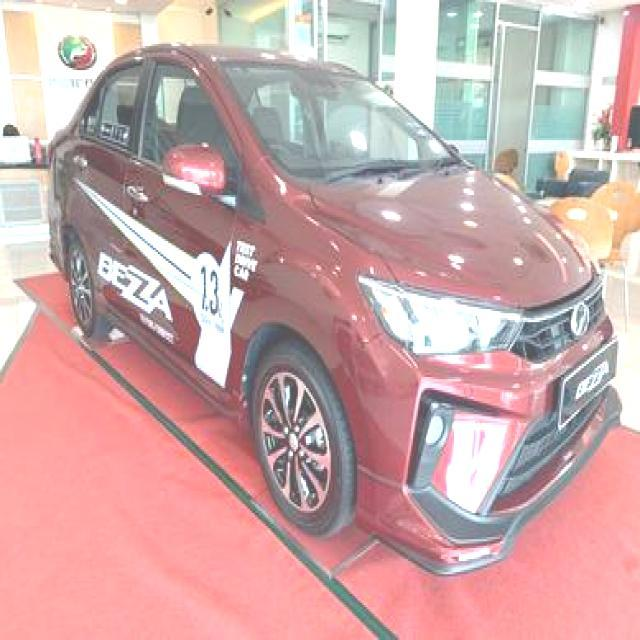PeroduaBezza: (45, 41, 622, 576)
